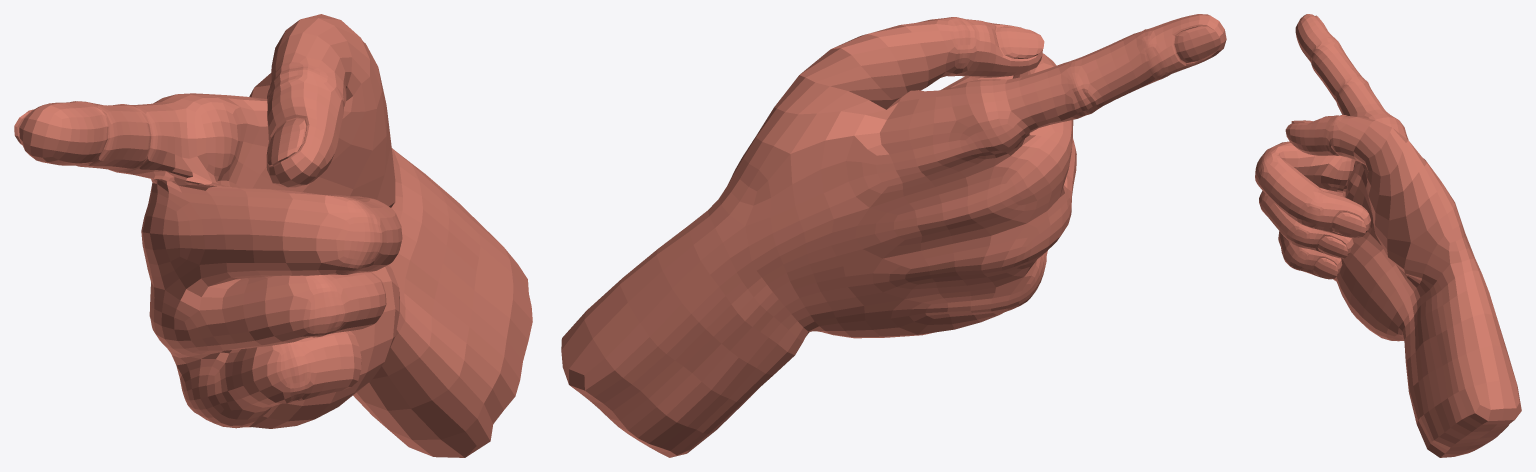
Rendered from ghaf.glb.
The picture shows the model from 3 angles, left to right: view 1: azimuth 30°, elevation 25°; view 2: azimuth 150°, elevation 25°; view 3: azimuth 270°, elevation 25°; orthographic projection. The views are drawn at different scales.
Visible parts, largest first — view 1: ZBrushPolyMesh3D; view 2: ZBrushPolyMesh3D; view 3: ZBrushPolyMesh3D.
Boxes of the visible parts, x1,y1,x2,y2 form: ZBrushPolyMesh3D: (14,14,532,457); ZBrushPolyMesh3D: (561,14,1226,457); ZBrushPolyMesh3D: (1255,14,1521,457).
Bounding box in the file's own units: 4.1 × 3.38 × 2.69.
